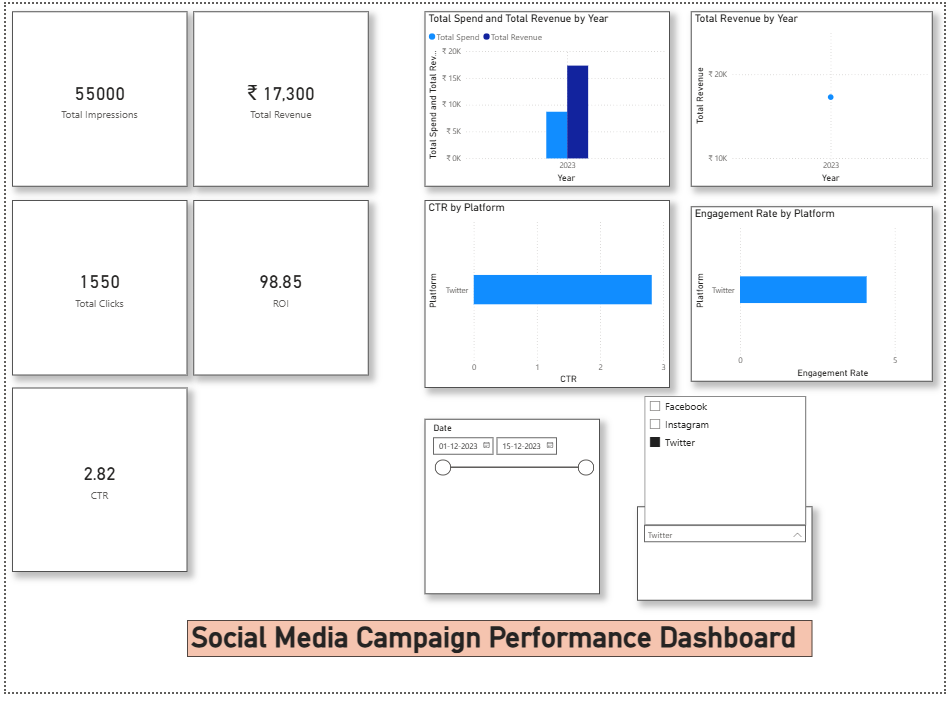

The page's visual inventory and layout, read from the dashboard file:
{"tool":"powerbi","page":{"name":"Page 1","canvas":[1500,1100],"ordinal":0},"visuals":[{"type":"card","fields":{"Values":["social_media_campaign_data.Total Impressions"]},"box":[10,12,280,280],"z":0},{"type":"card","fields":{"Values":["social_media_campaign_data.Total Clicks"]},"box":[10,314,280,280],"z":1000},{"type":"card","fields":{"Values":["social_media_campaign_data.CTR"]},"box":[10,614,280,294],"z":2000},{"type":"card","fields":{"Values":["social_media_campaign_data.Total Revenue"]},"box":[300,12,280,280],"z":3000},{"type":"card","fields":{"Values":["social_media_campaign_data.ROI"]},"box":[300,314,280,280],"z":4000},{"type":"lineChart","fields":{"Category":["social_media_campaign_data.Date.Variation.Date Hierarchy.Year","social_media_campaign_data.Date.Variation.Date Hierarchy.Quarter","social_media_campaign_data.Date.Variation.Date Hierarchy.Month","social_media_campaign_data.Date.Variation.Date Hierarchy.Day"],"Y":["social_media_campaign_data.Total Revenue"]},"box":[1096,12,386,280],"z":5000},{"type":"barChart","fields":{"Category":["social_media_campaign_data.Platform"],"Y":["social_media_campaign_data.CTR"]},"box":[670,314,392,300],"z":6000},{"type":"clusteredColumnChart","fields":{"Category":["social_media_campaign_data.Date.Variation.Date Hierarchy.Year","social_media_campaign_data.Date.Variation.Date Hierarchy.Quarter","social_media_campaign_data.Date.Variation.Date Hierarchy.Month","social_media_campaign_data.Date.Variation.Date Hierarchy.Day"],"Y":["social_media_campaign_data.Total Spend","social_media_campaign_data.Total Revenue"]},"box":[670,12,392,280],"z":7000},{"type":"barChart","fields":{"Category":["social_media_campaign_data.Platform"],"Y":["social_media_campaign_data.Engagement Rate"]},"box":[1096,324,386,280],"z":8000},{"type":"slicer","fields":{"Values":["social_media_campaign_data.Platform"]},"box":[1010,664,280,150],"z":9000},{"type":"slicer","fields":{"Values":["social_media_campaign_data.Date"]},"box":[670,664,280,280],"z":10000},{"type":"textbox","title":"Social Media Campaign Performance Dashboard","box":[290,986,1000,58],"z":11000}]}

Visuals, with their boxes in screenshot pixels (x1, y1, x2, y2), scaled from the page's 1500x1100 canvas onto the 948x705 screenshot:
card - social_media_campaign_data.Total Impressions: x1=6 y1=8 x2=183 y2=187
card - social_media_campaign_data.Total Clicks: x1=6 y1=201 x2=183 y2=381
card - social_media_campaign_data.CTR: x1=6 y1=394 x2=183 y2=582
card - social_media_campaign_data.Total Revenue: x1=190 y1=8 x2=367 y2=187
card - social_media_campaign_data.ROI: x1=190 y1=201 x2=367 y2=381
lineChart - social_media_campaign_data.Date.Variation.Date Hierarchy.Year x social_media_campaign_data.Date.Variation.Date Hierarchy.Quarter: x1=693 y1=8 x2=937 y2=187
barChart - social_media_campaign_data.Platform x social_media_campaign_data.CTR: x1=423 y1=201 x2=671 y2=394
clusteredColumnChart - social_media_campaign_data.Date.Variation.Date Hierarchy.Year x social_media_campaign_data.Date.Variation.Date Hierarchy.Quarter: x1=423 y1=8 x2=671 y2=187
barChart - social_media_campaign_data.Platform x social_media_campaign_data.Engagement Rate: x1=693 y1=208 x2=937 y2=387
slicer - social_media_campaign_data.Platform: x1=638 y1=426 x2=815 y2=522
slicer - social_media_campaign_data.Date: x1=423 y1=426 x2=600 y2=605
"Social Media Campaign Performance Dashboard" textbox: x1=183 y1=632 x2=815 y2=669
